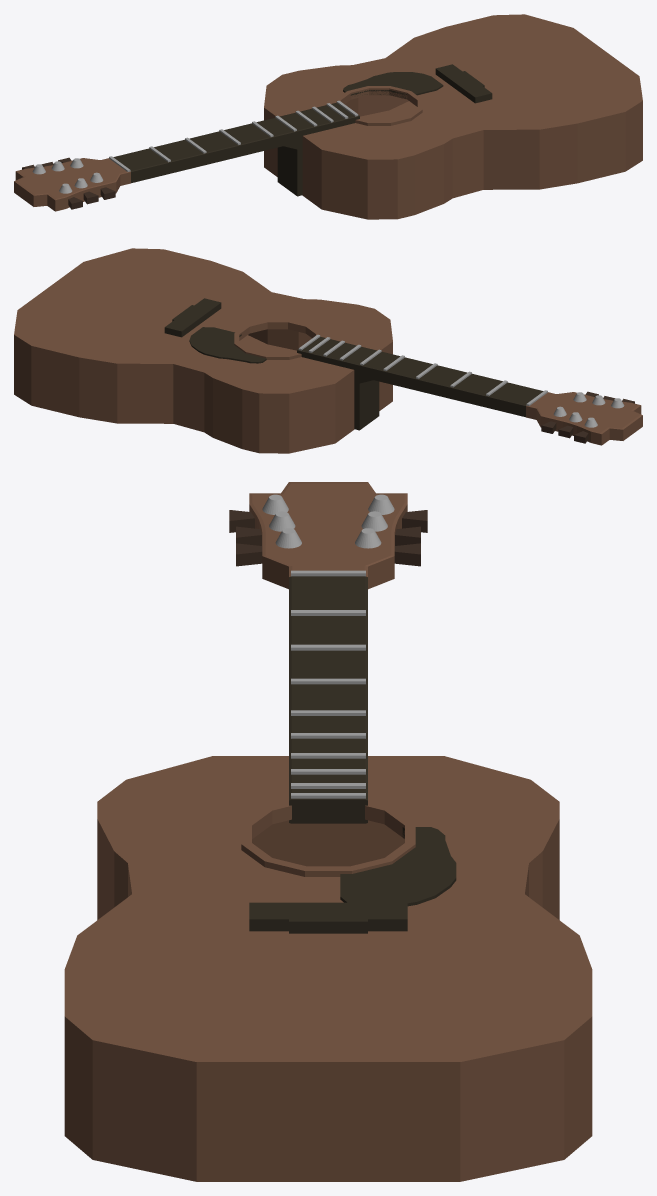
The model's file is GuitarStage-1.fbx.
3 views of the same model, one above another, from view 1: azimuth 30°, elevation 25°; view 2: azimuth 150°, elevation 25°; view 3: azimuth 270°, elevation 25° (orthographic). The views are drawn at different scales.
Parts seen in each view (by area): view 1: 立方体.033, 立方体, Cube, 立方体.039, 立方体.041, 立方体.040, ギター穴ぶー.001; view 2: 立方体.033, 立方体, Cube, 立方体.039, 立方体.041, 立方体.040, ギター穴ぶー.001; view 3: 立方体.033, 立方体, Cube, 立方体.039, 立方体.040, ギター穴ぶー.001.
Part boxes in pixels (x1,y1,x2,y2): 立方体.033: (264,14,642,219); 立方体: (113,102,359,183); Cube: (14,158,130,211); 立方体.039: (343,72,443,98); 立方体.041: (277,140,302,196); 立方体.040: (435,64,492,103); ギター穴ぶー.001: (335,86,422,125); 立方体.033: (14,248,392,453); 立方体: (297,336,543,417); Cube: (526,392,642,445); 立方体.039: (189,327,266,363); 立方体.041: (354,374,379,430); 立方体.040: (164,298,221,337); ギター穴ぶー.001: (234,320,321,359); 立方体.033: (64,756,592,1181); 立方体: (289,576,367,823); Cube: (249,482,407,589); 立方体.039: (340,827,456,906); 立方体.040: (249,902,407,933); ギター穴ぶー.001: (241,801,415,876).
Size of the model in its own units: 10183 by 1200 by 3995.
